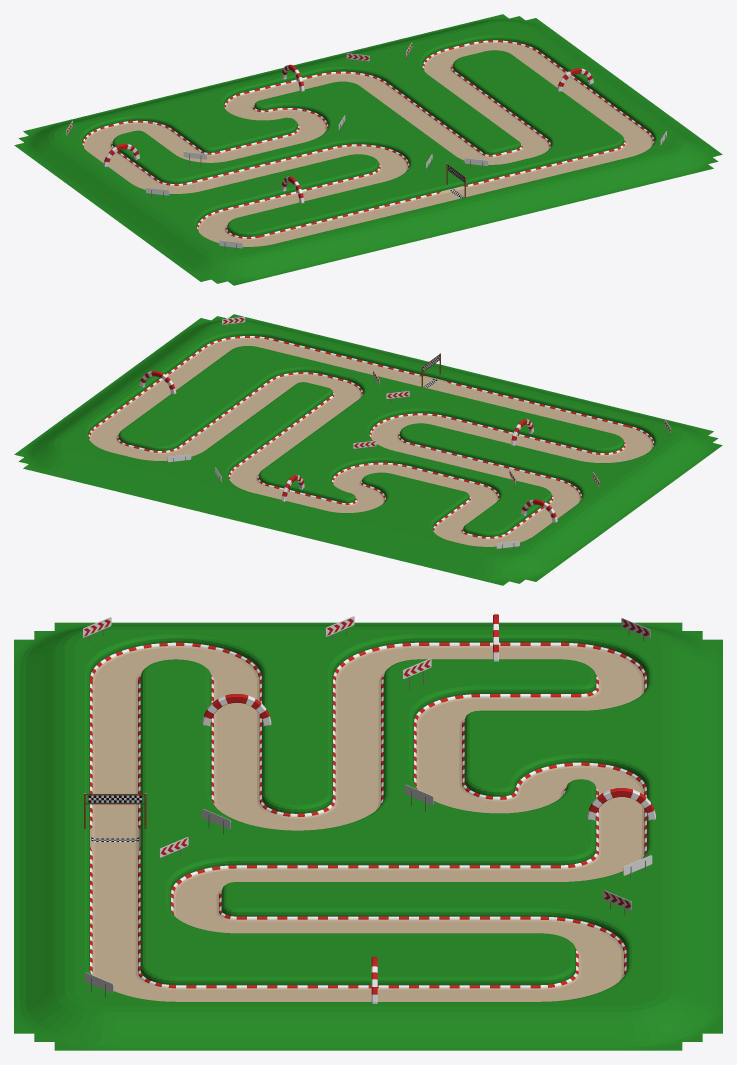
3 renders of one model, top to bottom at view 1: azimuth 30°, elevation 25°; view 2: azimuth 150°, elevation 25°; view 3: azimuth 270°, elevation 25°, orthographic. The views are drawn at different scales.
Visible parts, largest first — view 1: mergedBlocks(Clone); view 2: mergedBlocks(Clone); view 3: mergedBlocks(Clone).
Boxes of the visible parts, x1,y1,x2,y2 form: mergedBlocks(Clone): [14, 14, 722, 285]; mergedBlocks(Clone): [14, 314, 722, 585]; mergedBlocks(Clone): [14, 614, 722, 1050].
Bounding box in the file's own units: 50 × 2.9 × 35.
